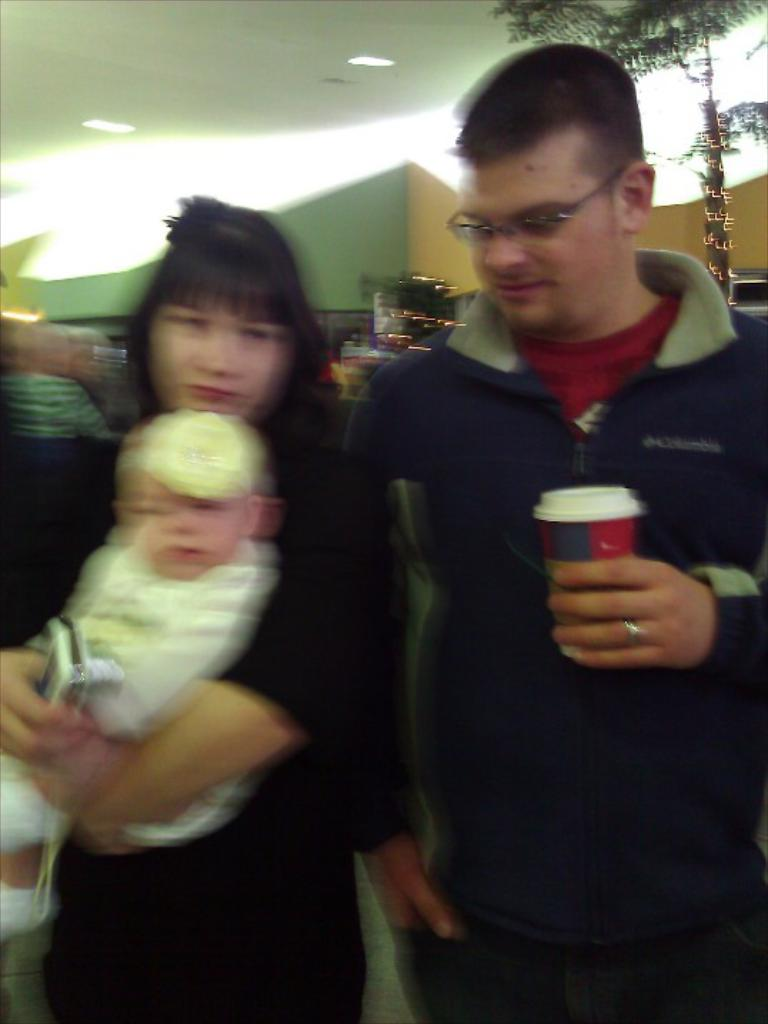Human_hand: (541, 551, 729, 674), (0, 646, 93, 766), (363, 838, 455, 947), (70, 770, 168, 864)
